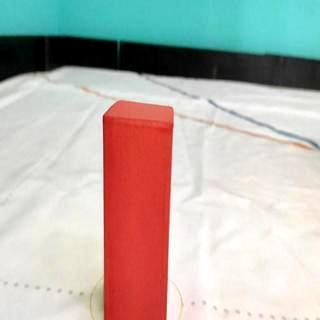redbox: (102, 98, 174, 320)
